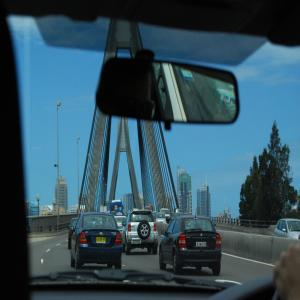Vehicle-registration-plate: (97, 238, 107, 245), (197, 243, 207, 249), (134, 242, 141, 245)
